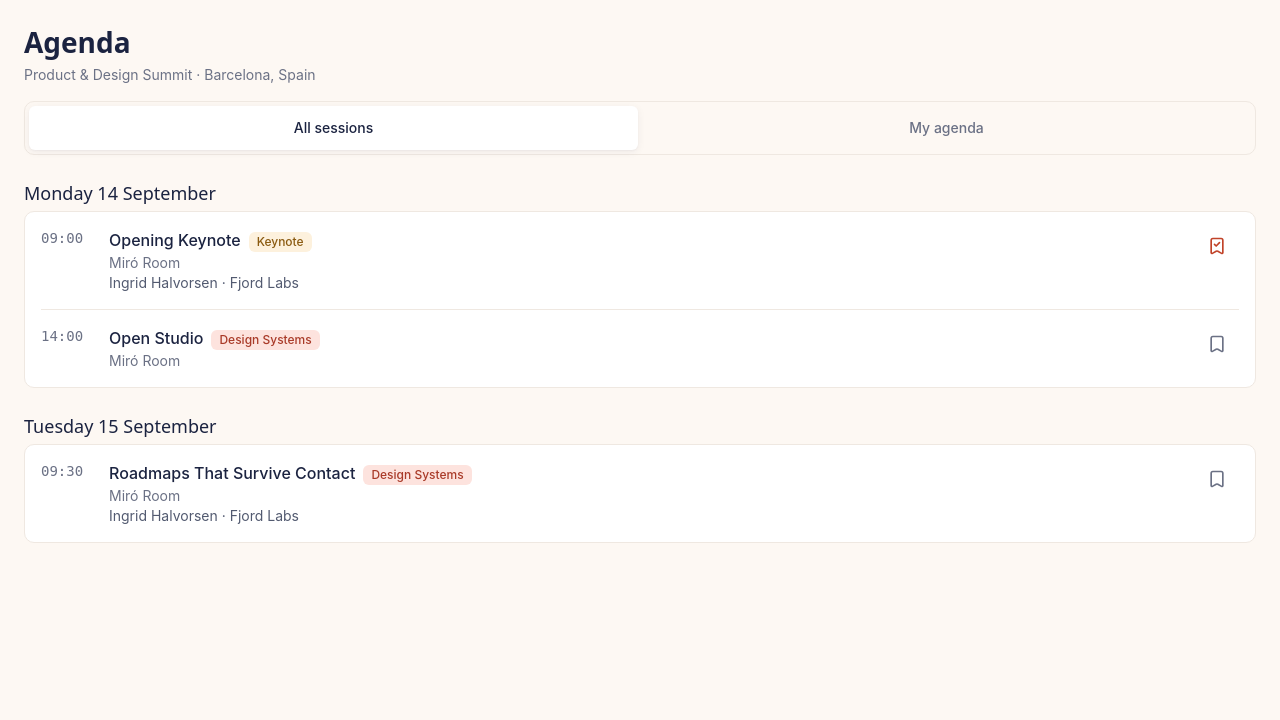
Test: writes attempted with no connection › refuses an unsave the same way, not only a save
expect the link "Opening Keynote" is shown: met, box [109, 230, 241, 250]
Click the button named "remove Opening Keynote": (1217, 246) [1195, 224, 1239, 268]
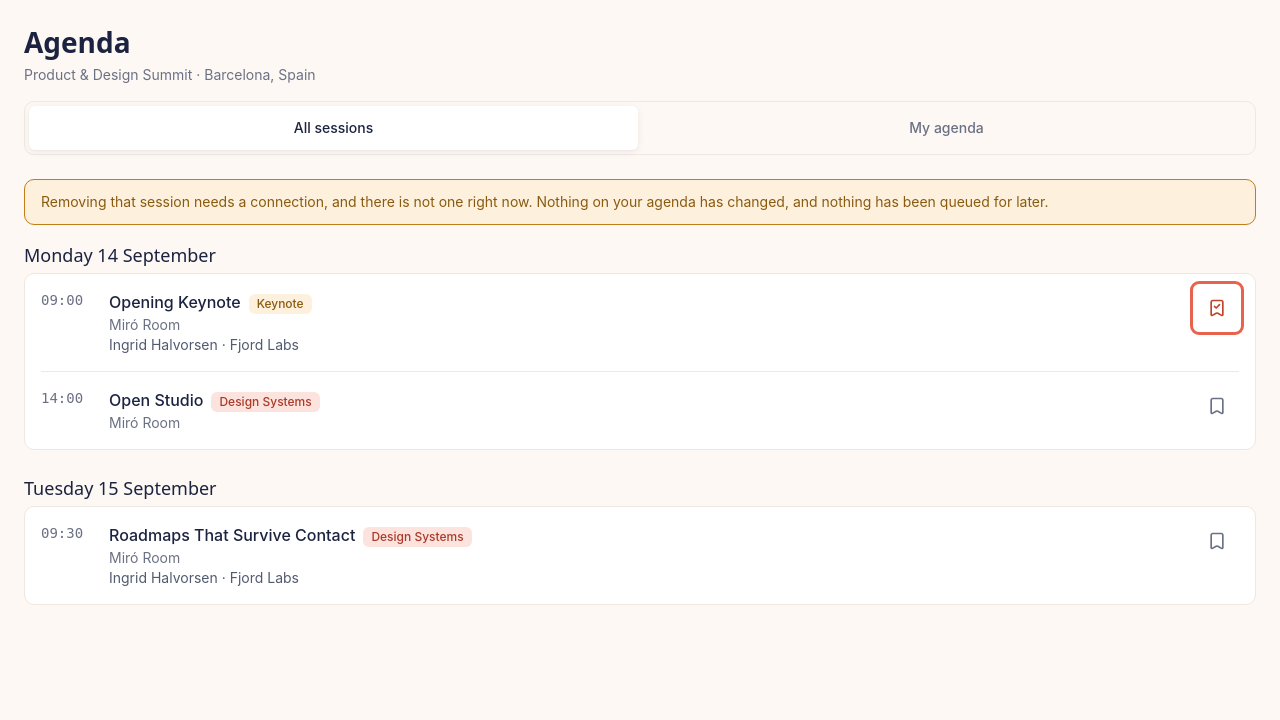
expect the button named "remove Opening Keynote" is shown: met, box [1195, 286, 1239, 330]
expect the message shows "needs a connection": met, box [41, 193, 1048, 210]
